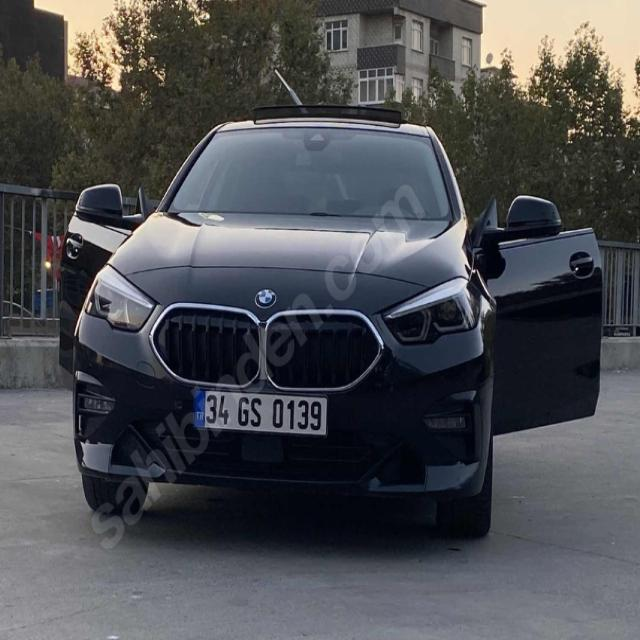bmw: (255, 285, 279, 312)
